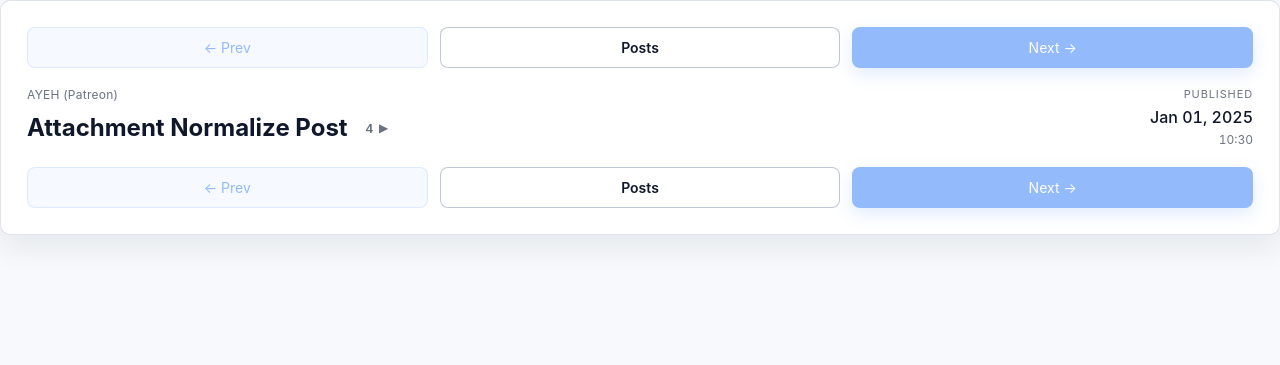
Scenario: PostView attachment and inline-link behavior › normalizes and dedupes attachment entries from post and payload extras
Expected: the heading "Attachment Normalize Post" is shown, [27,110,348,146]
Expected: the text with class "attachment-count" reads "4", [366,121,373,136]
Click the button named "show attachments": (377, 128) [360,119,394,138]
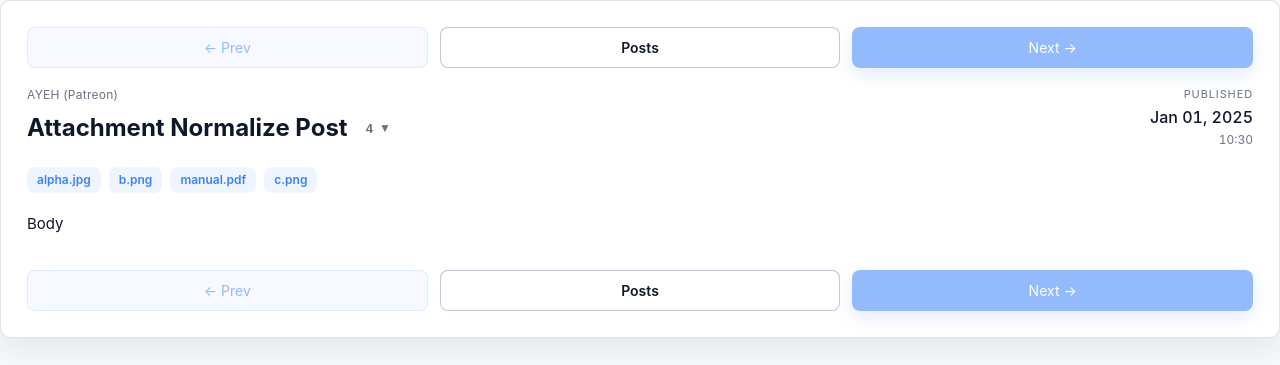
Expected: the number of links with class "attachment" is 4, [27,166,101,192]; [109,166,162,192]; [170,166,256,192]; [264,166,318,192]
